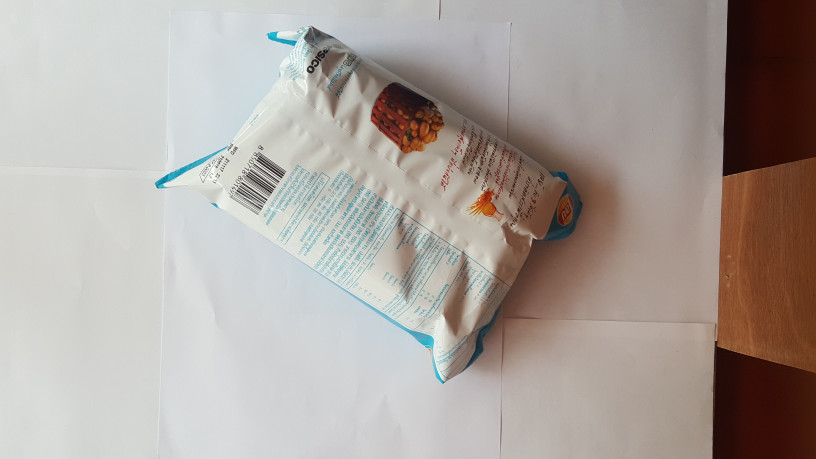lays-onion: (149, 22, 588, 388)
